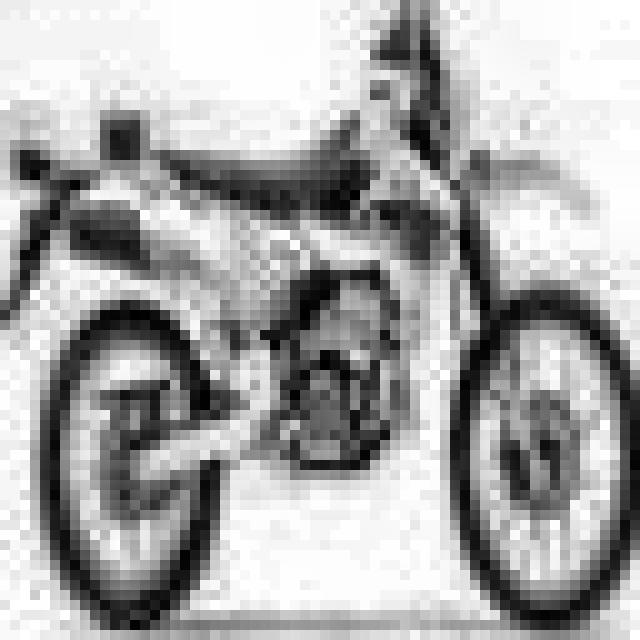mopeds: (4, 2, 640, 636)
